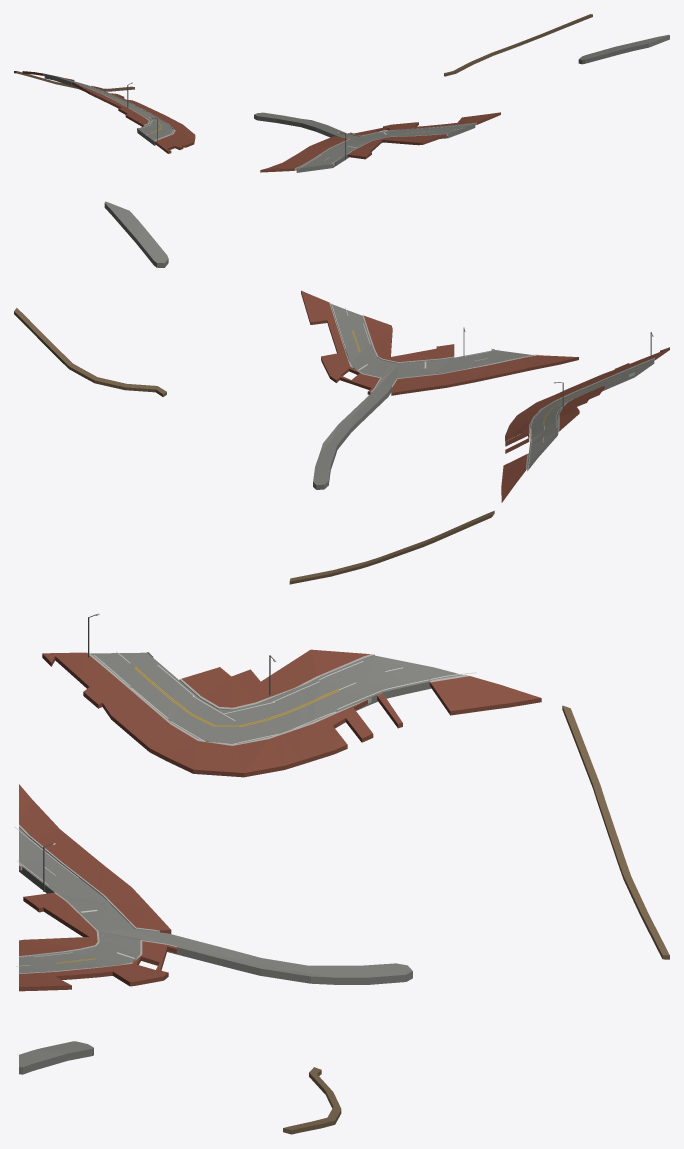
The picture shows the model from 3 angles, top to bottom: view 1: azimuth 30°, elevation 25°; view 2: azimuth 150°, elevation 25°; view 3: azimuth 270°, elevation 25°; orthographic projection. The views are drawn at different scales.
Bounding box in the file's own units: 148 × 36.68 × 98.12.
